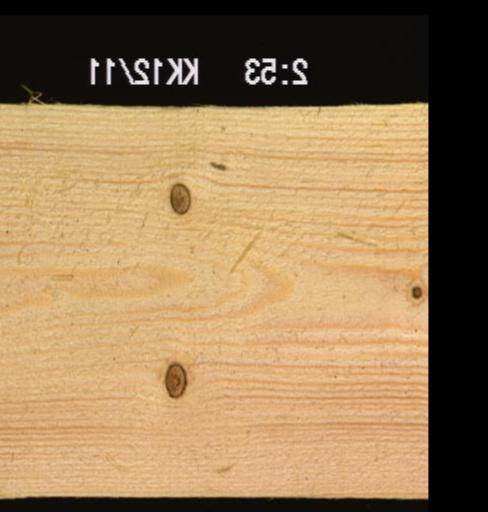dry_knot: (162, 359, 189, 397), (169, 179, 192, 215), (406, 276, 424, 306)
